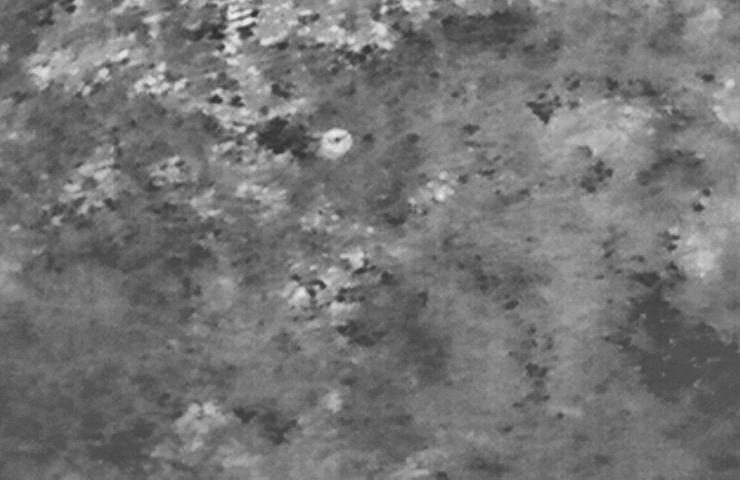landmines: (317, 126, 357, 164)
